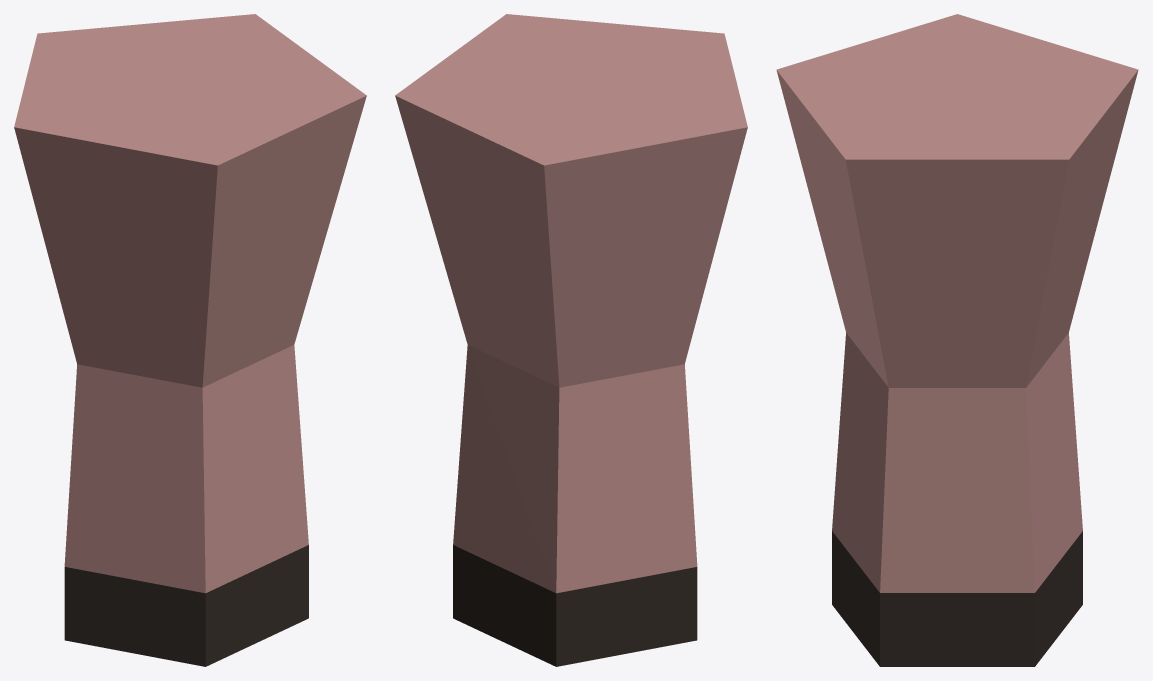
The model's file is animal_pig_leg.obj.
3 renders of one model, left to right at view 1: azimuth 30°, elevation 25°; view 2: azimuth 150°, elevation 25°; view 3: azimuth 270°, elevation 25°, orthographic.
Visible parts, largest first — view 1: animal_pig_leg; view 2: animal_pig_leg; view 3: animal_pig_leg.
Part boxes in pixels (left/top/right/bottom): animal_pig_leg: left=14, top=14, right=366, bottom=666; animal_pig_leg: left=395, top=14, right=747, bottom=666; animal_pig_leg: left=776, top=14, right=1138, bottom=666.
Size of the model in its own units: 0.1512 by 0.2555 by 0.159.
